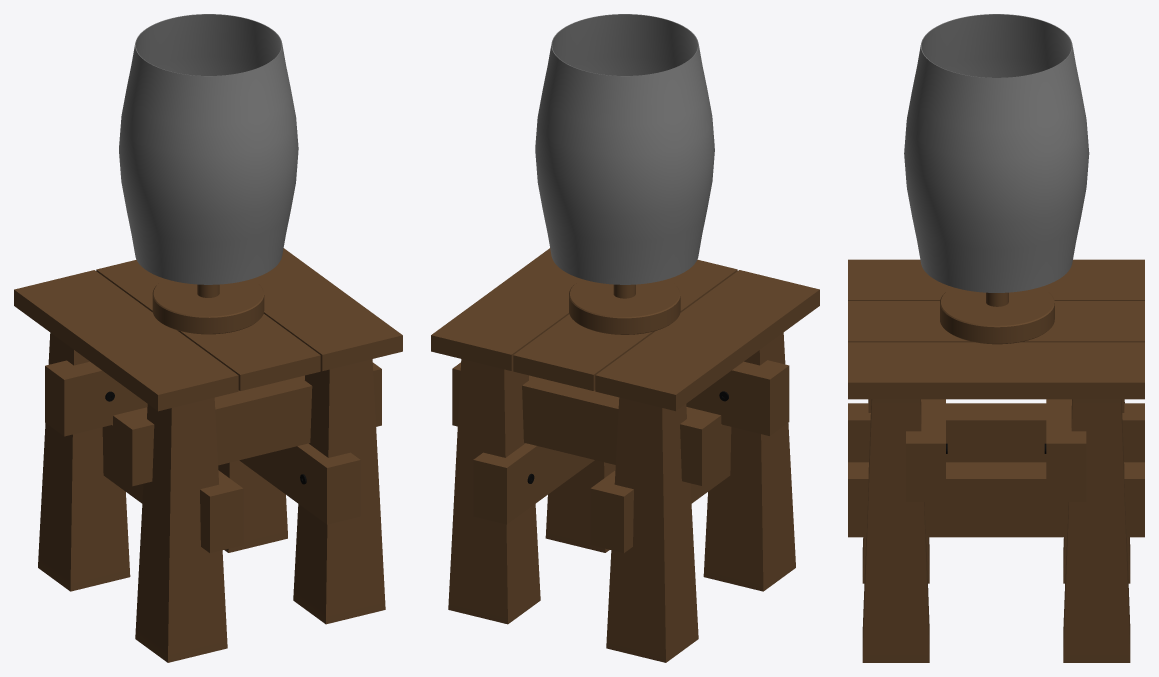
File: lampdesk.fbx
The picture shows the model from 3 angles, left to right: view 1: azimuth 30°, elevation 25°; view 2: azimuth 150°, elevation 25°; view 3: azimuth 270°, elevation 25°; orthographic projection. The views are drawn at different scales.
Visible parts, largest first — view 1: Lmp_shade, Tab_leg_007, Tab_leg_3, Seat_plank_1, Tab_leg_008, Tab_bm_009, Seat_plank_005, Seat_plank_004, Tab_bm_2, Tab_bm_008, Lmp_pad, Tab_bm_007 (+1 smaller); view 2: Lmp_shade, Tab_leg_008, Tab_leg_009, Seat_plank_1, Tab_leg_007, Tab_bm_008, Seat_plank_005, Seat_plank_004, Tab_bm_2, Tab_bm_009, Lmp_pad, Tab_bm_007 (+1 smaller); view 3: Lmp_shade, Seat_plank_005, Tab_leg_009, Tab_leg_3, Tab_bm_2, Tab_bm_007, Seat_plank_004, Seat_plank_1, Lmp_pad, Tab_bm_008, Tab_bm_009.
Boxes of the visible parts, box(x1,y1,x2,y2) form: Lmp_shade: box(119, 14, 298, 284); Tab_leg_007: box(135, 397, 227, 662); Tab_leg_3: box(293, 359, 385, 624); Seat_plank_1: box(14, 270, 238, 411); Tab_leg_008: box(38, 333, 130, 591); Tab_bm_009: box(113, 362, 381, 486); Seat_plank_005: box(252, 248, 402, 370); Seat_plank_004: box(96, 259, 320, 390); Tab_bm_2: box(239, 443, 360, 524); Tab_bm_008: box(45, 360, 147, 436); Lmp_pad: box(152, 279, 264, 334); Tab_bm_007: box(102, 424, 243, 553); Lmp_shade: box(535, 14, 714, 284); Tab_leg_008: box(606, 397, 698, 662); Tab_leg_009: box(448, 359, 540, 624); Seat_plank_1: box(595, 270, 819, 411); Tab_leg_007: box(703, 332, 795, 591); Tab_bm_008: box(452, 362, 721, 485); Seat_plank_005: box(431, 248, 581, 370); Seat_plank_004: box(513, 259, 737, 390); Tab_bm_2: box(473, 443, 594, 524); Tab_bm_009: box(686, 360, 789, 435); Lmp_pad: box(569, 279, 680, 334); Tab_bm_007: box(590, 424, 731, 552); Lmp_shade: box(904, 14, 1089, 292); Seat_plank_005: box(848, 342, 1144, 399); Tab_leg_009: box(1063, 399, 1130, 662); Tab_leg_3: box(862, 399, 929, 662); Tab_bm_2: box(848, 462, 1144, 537); Tab_bm_007: box(848, 403, 1144, 462); Seat_plank_004: box(848, 301, 1144, 342); Seat_plank_1: box(848, 259, 1144, 300); Lmp_pad: box(940, 287, 1054, 344); Tab_bm_008: box(1046, 399, 1086, 501); Tab_bm_009: box(906, 399, 945, 501).
Bounding box in the file's own units: 40.38 × 39.98 × 83.38.
